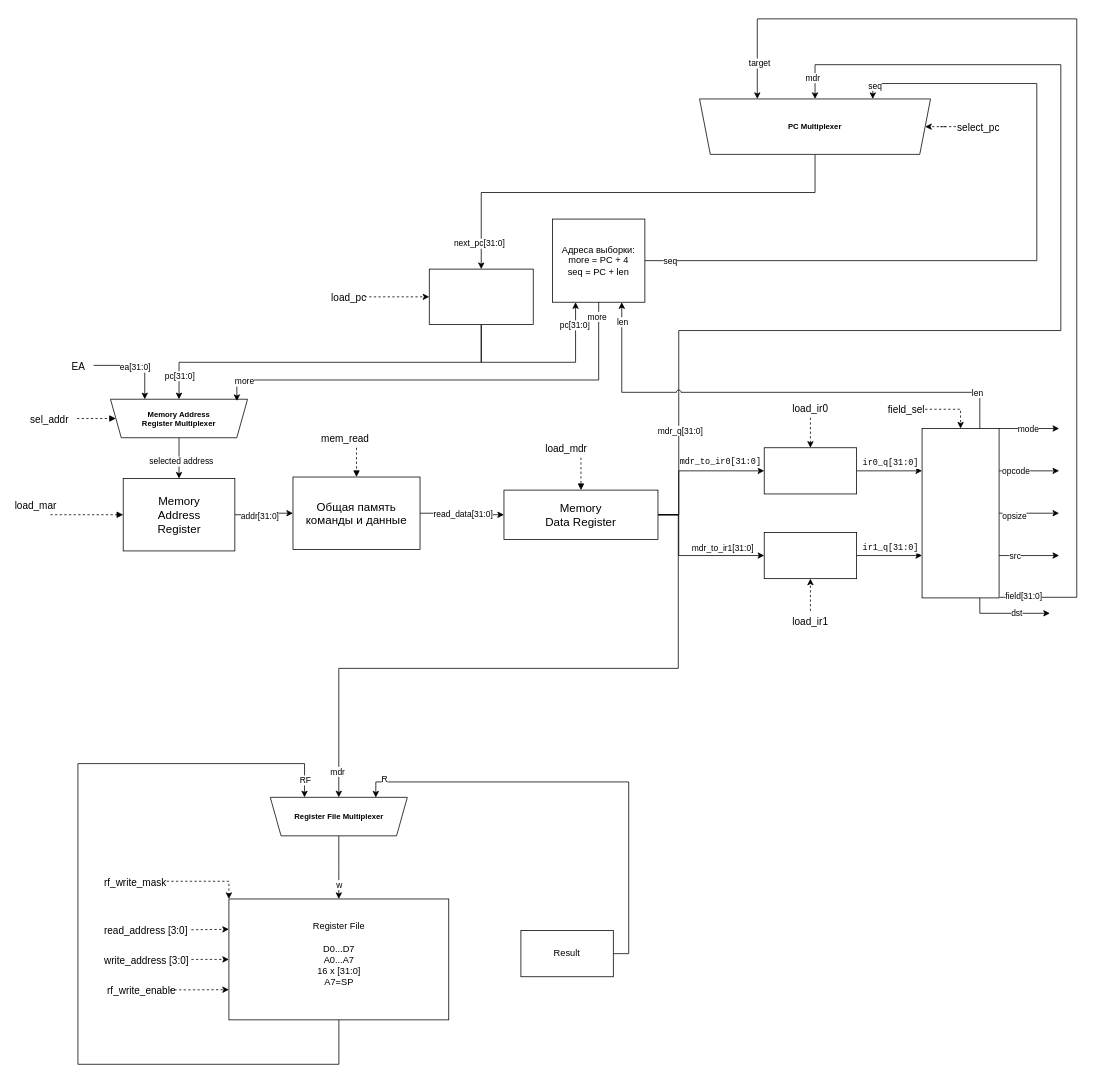
Some shapes in this 1096 by 1084 pixel diagram are drawn without their labels. The centre of each missing label's shape, as x and y in pixels:
"Instruction Register 0" goes at point 810,470.
"Instruction Register 1" goes at point 810,555.
"Instructions decoder" goes at point 960,513.
"PC" goes at point 481,296.
